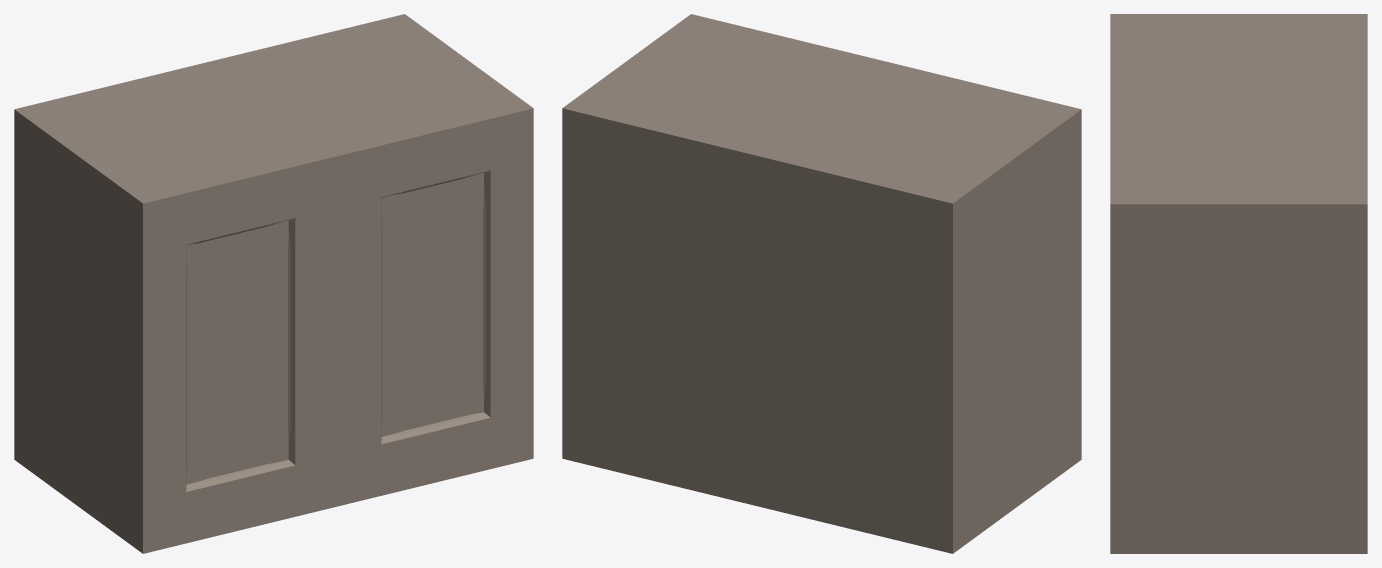
The model's file is Wall-Cabinet-18-High-12-Deep_std_001_W21in.glb.
3 renders of one model, left to right at view 1: azimuth 30°, elevation 25°; view 2: azimuth 150°, elevation 25°; view 3: azimuth 270°, elevation 25°, orthographic.
Parts seen in each view (by area): view 1: Wall-Cabinet-18-High-12-Deep.std.001_W21in; view 2: Wall-Cabinet-18-High-12-Deep.std.001_W21in; view 3: Wall-Cabinet-18-High-12-Deep.std.001_W21in.
Boxes of the visible parts, x1,y1,x2,y2 form: Wall-Cabinet-18-High-12-Deep.std.001_W21in: (14,14,533,553); Wall-Cabinet-18-High-12-Deep.std.001_W21in: (562,14,1081,553); Wall-Cabinet-18-High-12-Deep.std.001_W21in: (1110,14,1367,553).
Size of the model in its own units: 0.5334 by 0.4572 by 0.3048.
